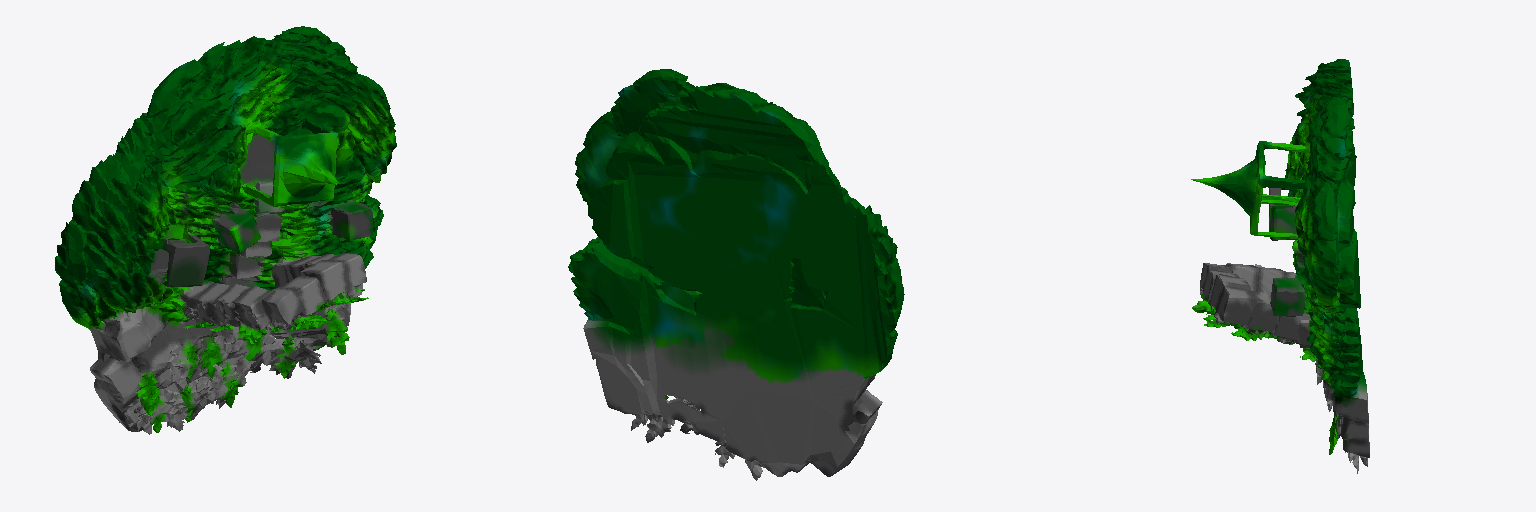
3 views of the same model, side by side, from view 1: azimuth 30°, elevation 25°; view 2: azimuth 150°, elevation 25°; view 3: azimuth 270°, elevation 25° (orthographic).
Parts seen in each view (by area): view 1: Layer_2; view 2: Layer_2; view 3: Layer_2.
Part boxes in pixels (x1,y1,x2,y2): Layer_2: (55, 26, 396, 434); Layer_2: (568, 69, 904, 480); Layer_2: (1191, 59, 1369, 473).
Size of the model in its own units: 0.5515 by 0.6029 by 0.2601.
Materials: 1 (1 with a texture image).